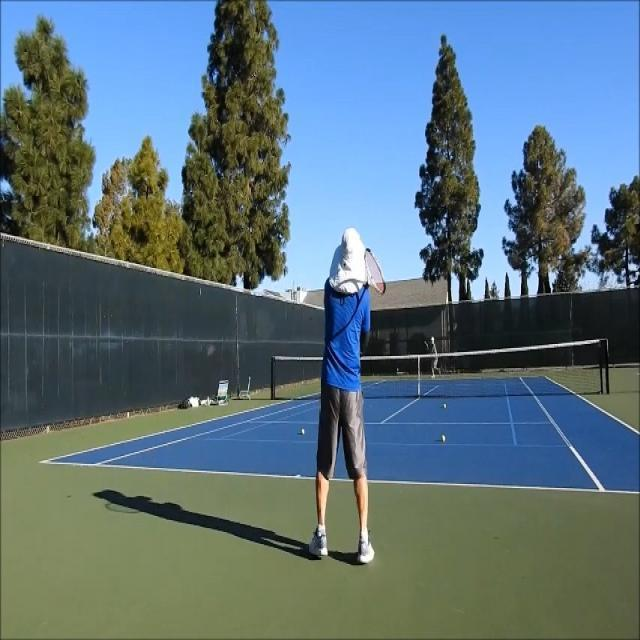court: (38, 378, 640, 494)
net: (269, 336, 611, 402)
player: (308, 228, 386, 566)
